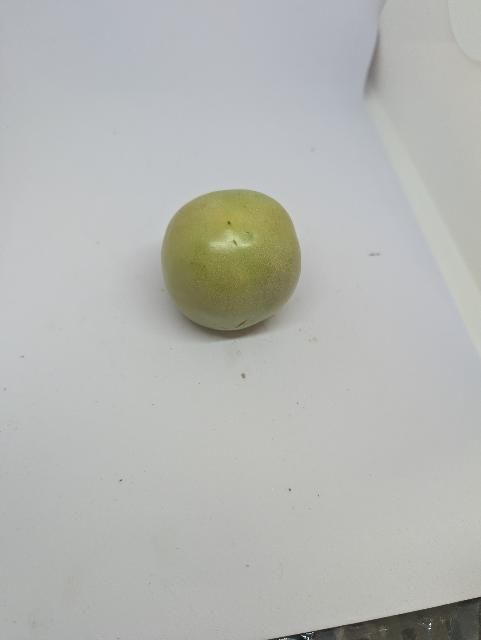green: (160, 186, 305, 332)
